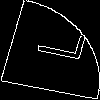L: (25, 24, 86, 63)
